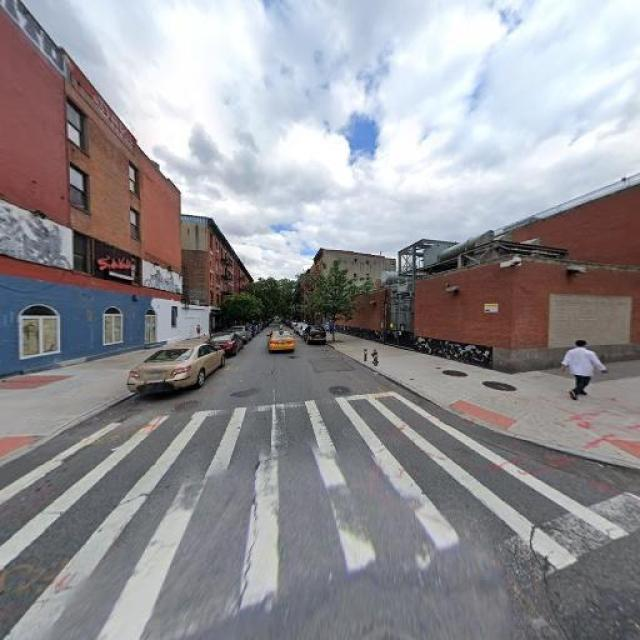Building: (1, 1, 180, 379), (327, 250, 640, 368)
